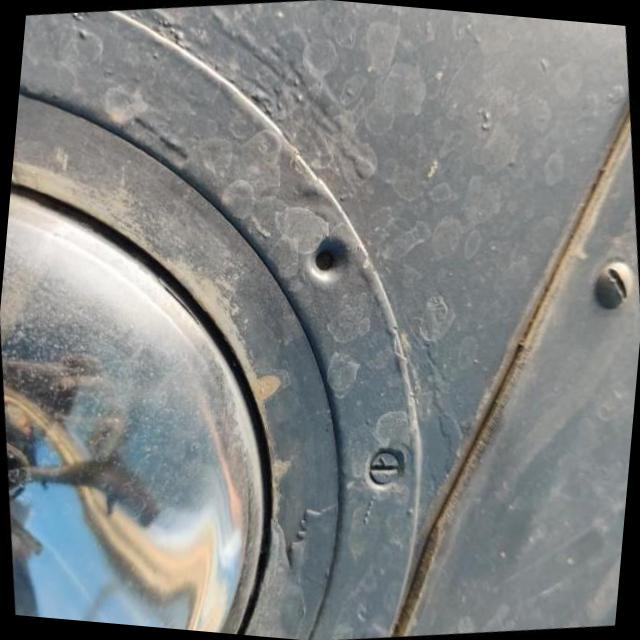Missing Fastener: (307, 229, 356, 289)
